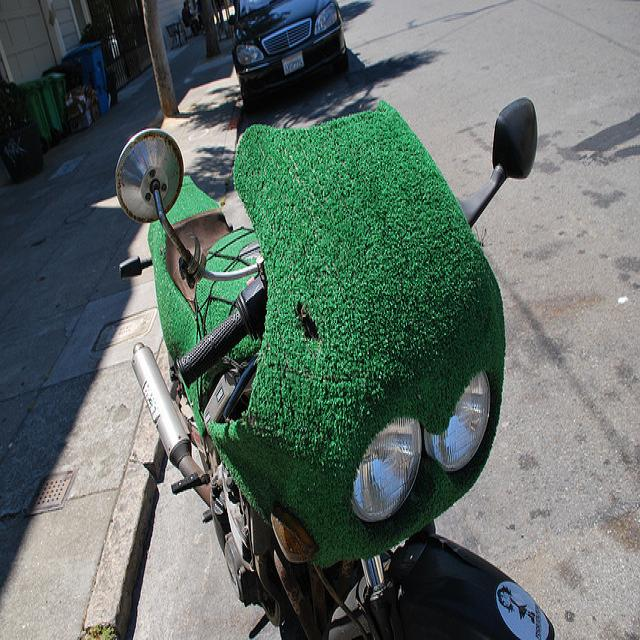Vehicle: (111, 98, 508, 632), (360, 97, 556, 632), (233, 2, 352, 122)
